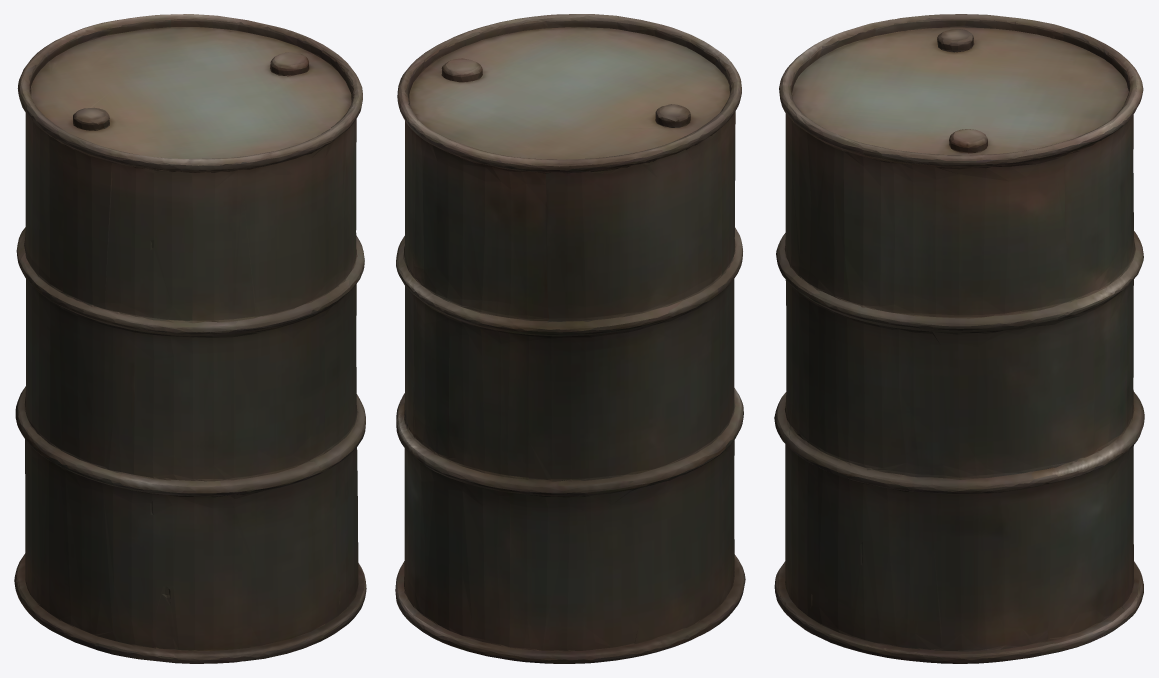
File: barrel.glb
3 renders of one model, left to right at view 1: azimuth 30°, elevation 25°; view 2: azimuth 150°, elevation 25°; view 3: azimuth 270°, elevation 25°, orthographic.
Parts seen in each view (by area): view 1: geometry_0; view 2: geometry_0; view 3: geometry_0.
Boxes of the visible parts, x1,y1,x2,y2 form: geometry_0: [14, 14, 366, 663]; geometry_0: [395, 14, 745, 663]; geometry_0: [774, 14, 1144, 663].
Size of the model in its own units: 0.6279 by 0.9994 by 0.6626.
Materials: 1 (1 with a texture image).
